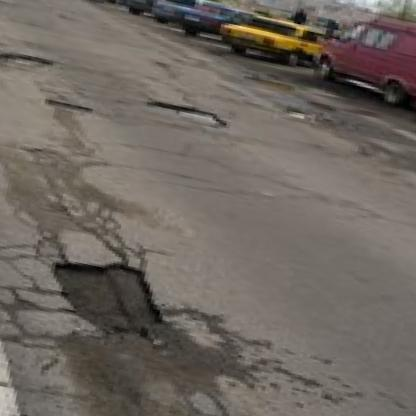pothole: (44, 251, 175, 343), (145, 100, 231, 129), (0, 46, 54, 72), (40, 96, 93, 116)
